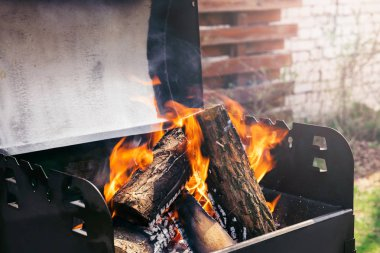fire: (230, 104, 285, 181), (174, 102, 213, 196), (110, 141, 162, 194)
